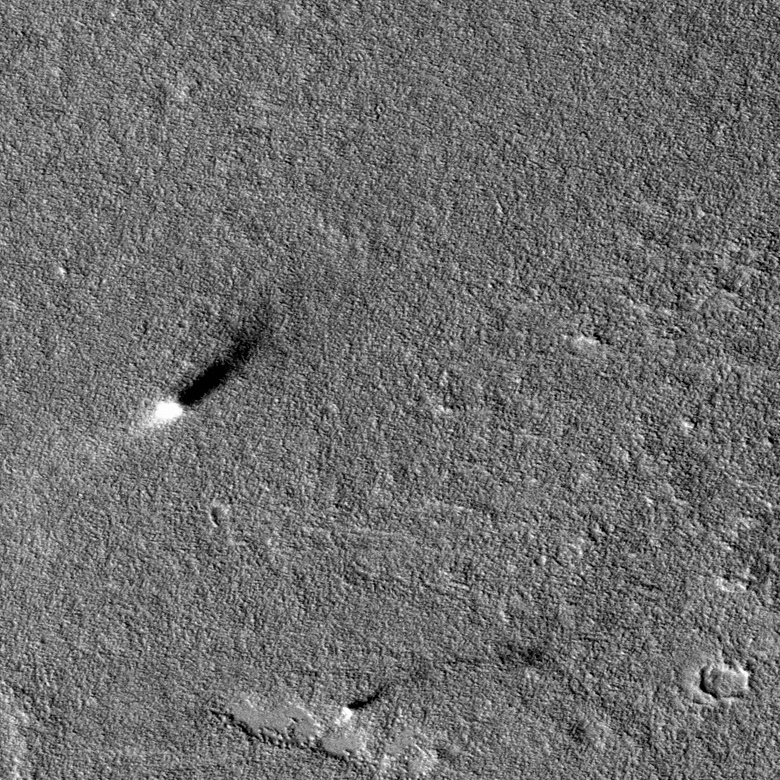dust_devil: (146, 305, 278, 427), (338, 682, 393, 725)
